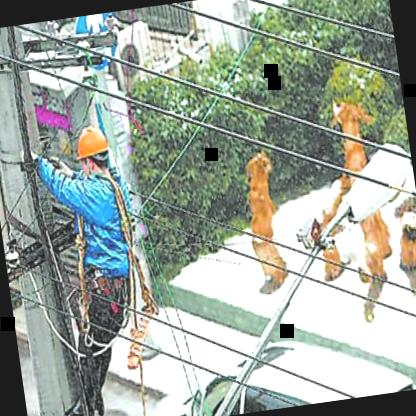helmet: (70, 120, 112, 178)
